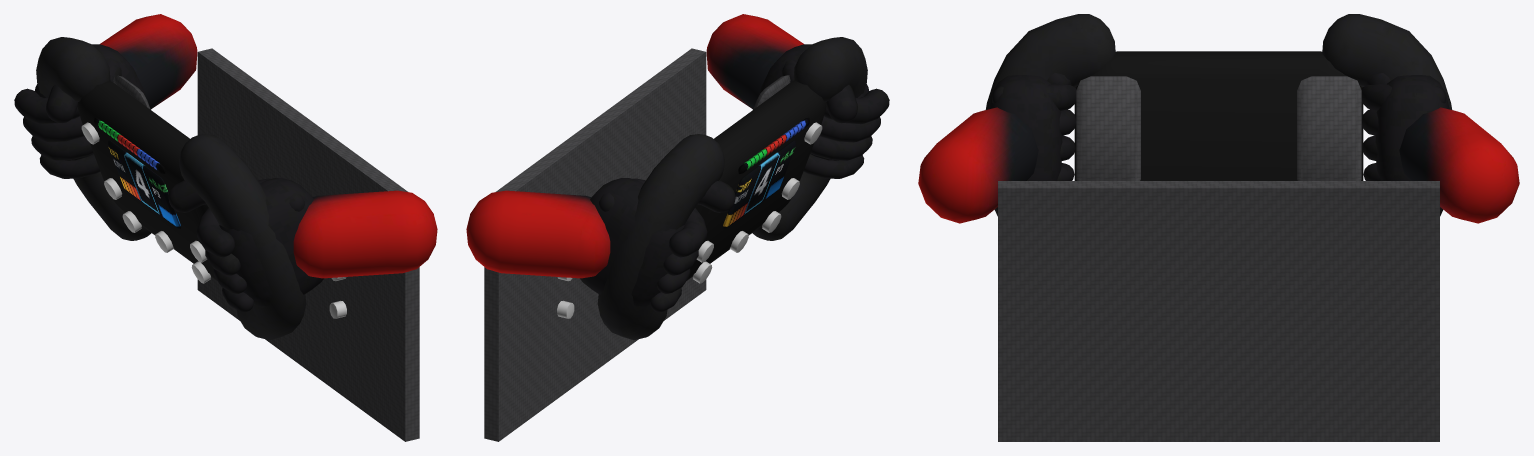
Rendered from tm_tempesta_cockpit.glb.
3 views of the same model, side by side, from view 1: azimuth 30°, elevation 25°; view 2: azimuth 150°, elevation 25°; view 3: azimuth 270°, elevation 25° (orthographic). The views are drawn at different scales.
Visible parts, largest first — view 1: cockpit_shell, hands, steering_wheel; view 2: cockpit_shell, hands, steering_wheel; view 3: cockpit_shell, steering_wheel, hands.
Part boxes in pixels (bbox=[...]): cockpit_shell: bbox=[197, 48, 419, 441]; hands: bbox=[14, 14, 437, 312]; steering_wheel: bbox=[36, 37, 306, 339]; cockpit_shell: bbox=[484, 48, 706, 441]; hands: bbox=[466, 14, 889, 312]; steering_wheel: bbox=[597, 37, 867, 339]; cockpit_shell: bbox=[998, 181, 1439, 441]; steering_wheel: bbox=[985, 14, 1452, 216]; hands: bbox=[918, 73, 1519, 223].
Bounding box in the file's own units: 0.1724 × 0.2509 × 0.4085.
Materials: 2 (2 with a texture image).
